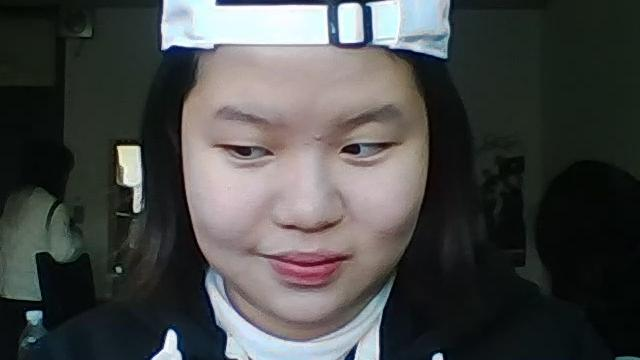eye: (233, 143, 249, 158), (343, 143, 359, 156)
iris: (226, 144, 275, 158), (340, 143, 386, 157)
